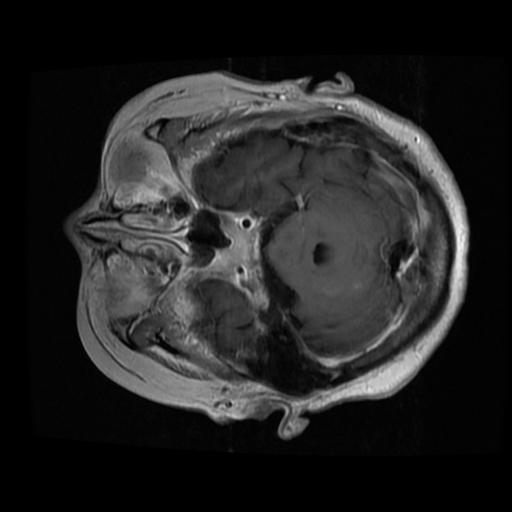pituitary tumour: (209, 211, 262, 285)
